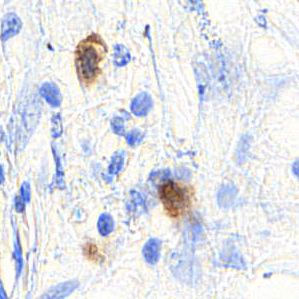Lymphocyte: (71, 33, 103, 83)
